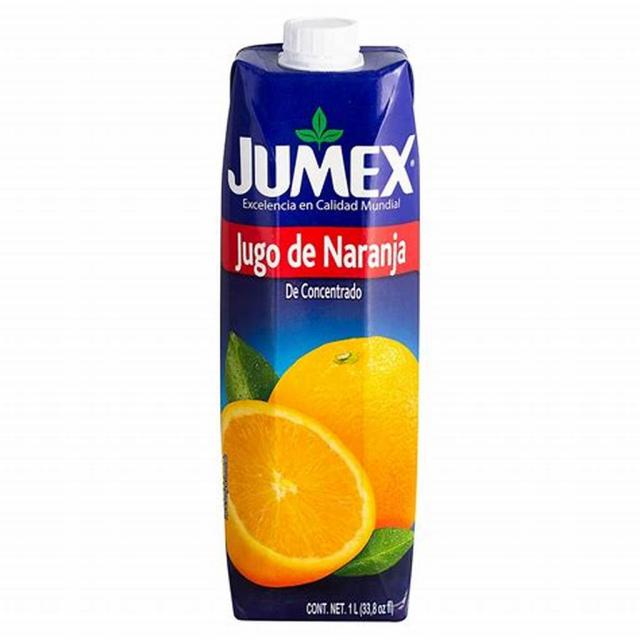Caja: (219, 19, 420, 621)
